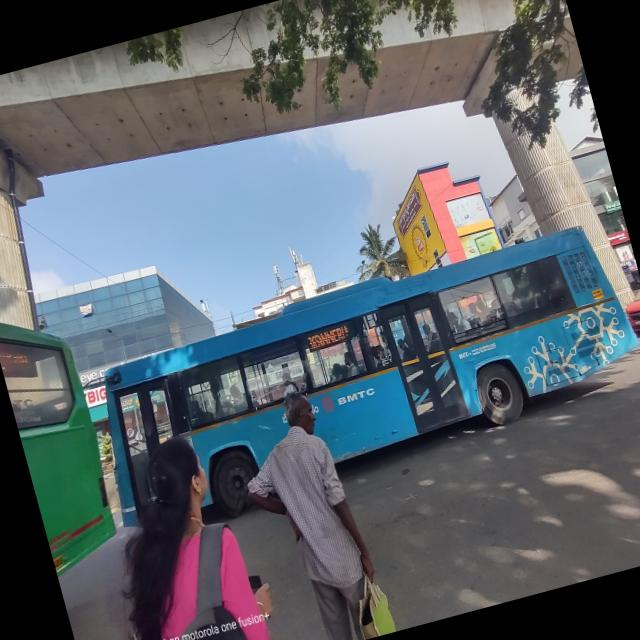bus: (79, 206, 640, 541)
display: (304, 319, 361, 352)
dnumber: (306, 332, 320, 351)
